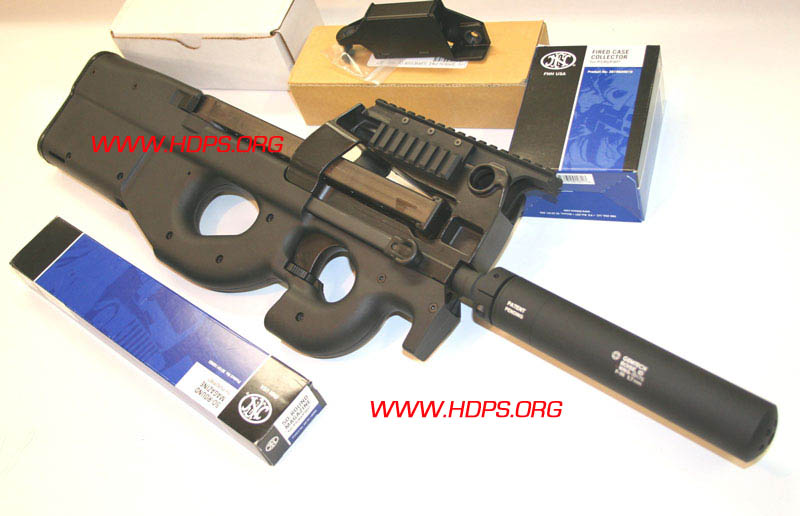rifle: (53, 60, 770, 468)
